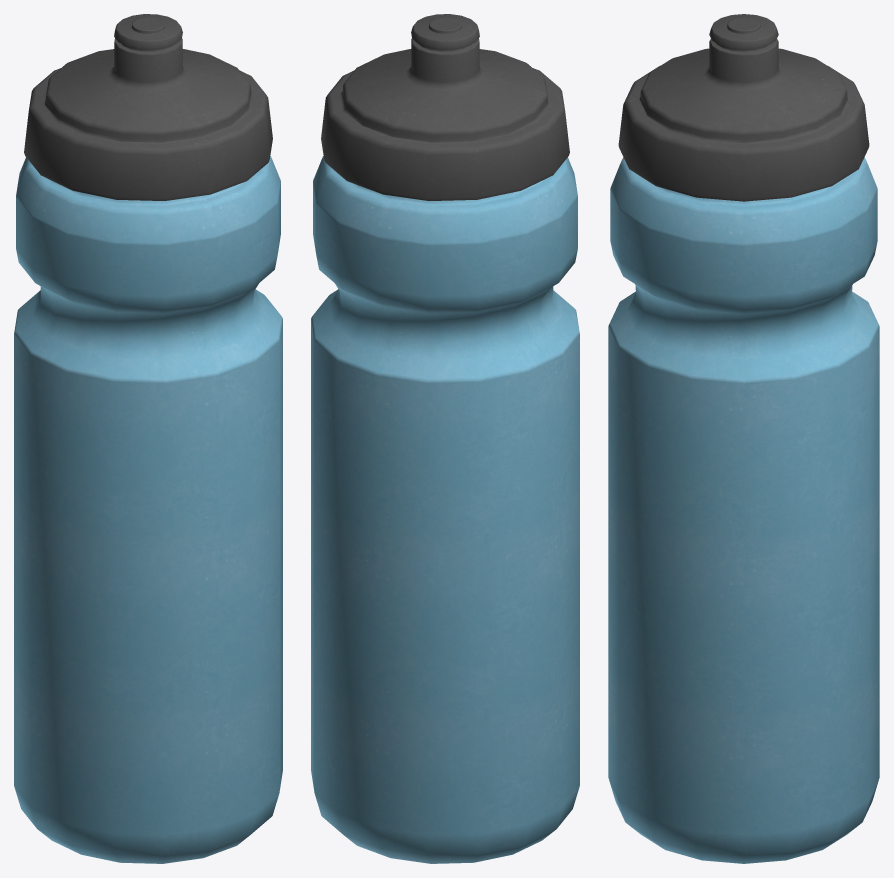
File: Water Bottle.glb
The picture shows the model from 3 angles, left to right: view 1: azimuth 30°, elevation 25°; view 2: azimuth 150°, elevation 25°; view 3: azimuth 270°, elevation 25°; orthographic projection.
Parts seen in each view (by area): view 1: Object_2; view 2: Object_2; view 3: Object_2.
Part boxes in pixels (left/top/right/bottom): Object_2: left=14, top=14, right=282, bottom=863; Object_2: left=311, top=14, right=579, bottom=863; Object_2: left=608, top=14, right=879, bottom=863.
Bounding box in the file's own units: 2.82 × 9.1 × 2.82.
1 material, 1 textured.
